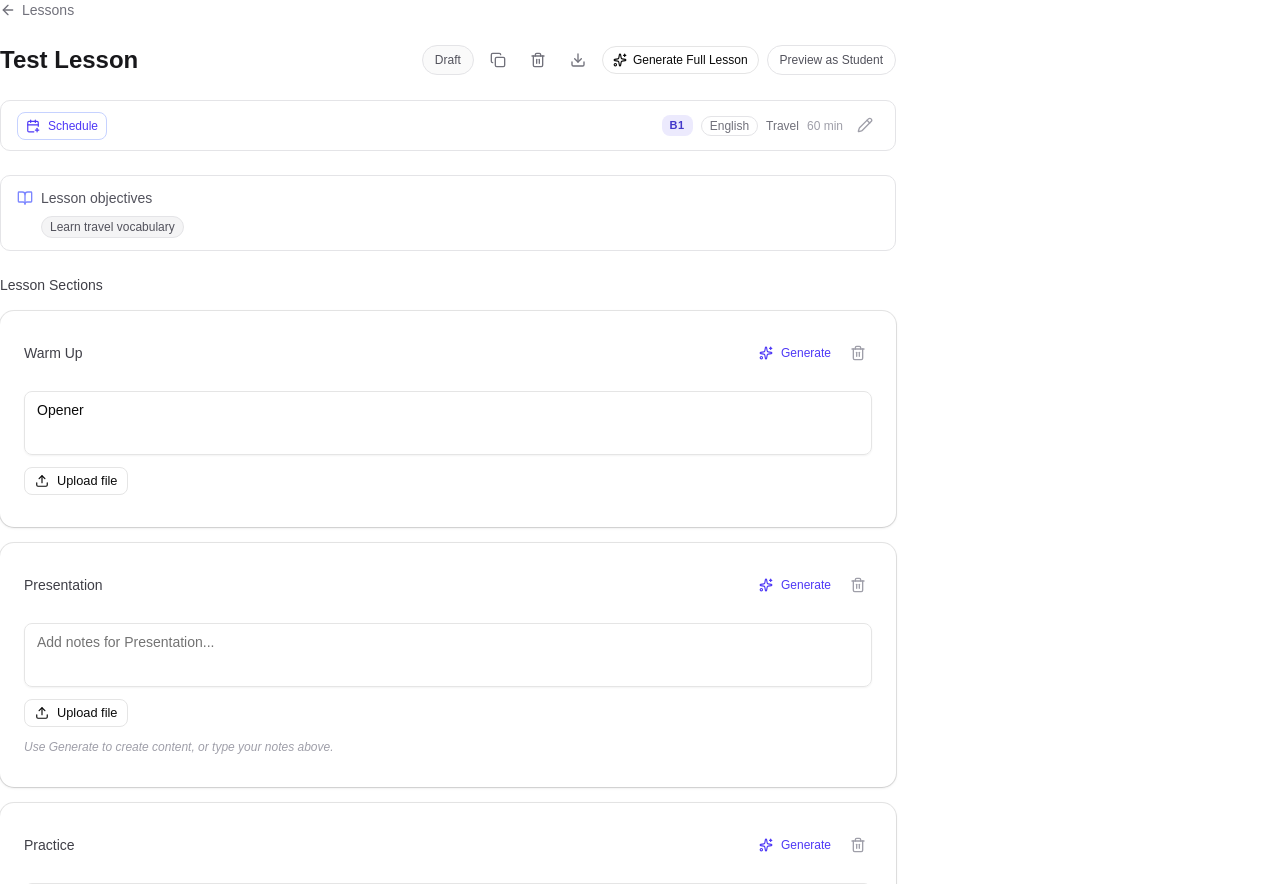
Test: LessonEditor › renders Save and Cancel buttons when inline scheduling is active
Expected: the button with test id "lesson-title" is shown, [0,46,138,73]
# Schedule button is directly visible in the context bar — no expansion needed
Click the button with test id "quick-schedule-btn": (62, 126) [17,112,107,140]
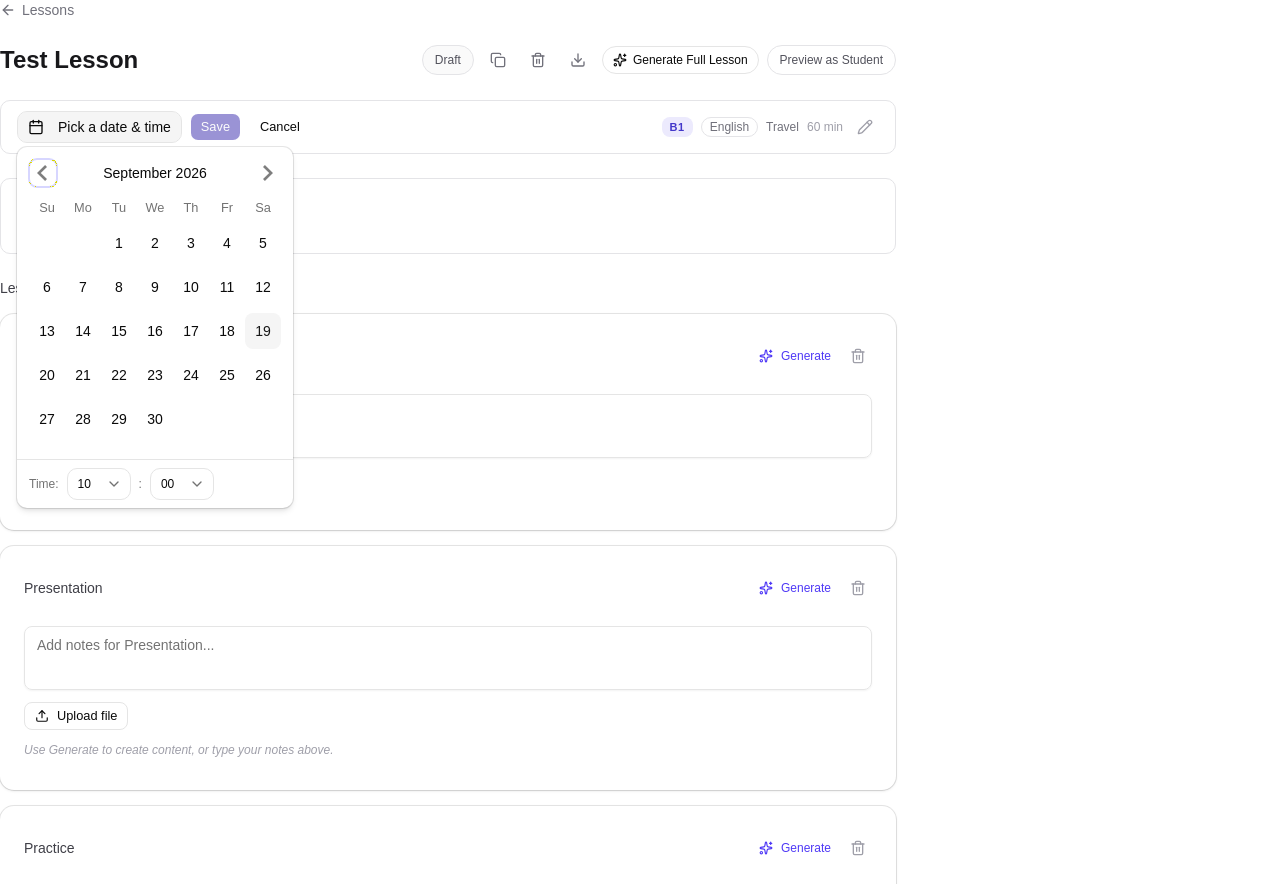
Expected: the button "Save" is shown, [190,113,241,141]
Expected: the button "Cancel" is shown, [249,113,311,141]
Expected: the button with test id "inline-schedule-input" is shown, [17,111,182,143]
